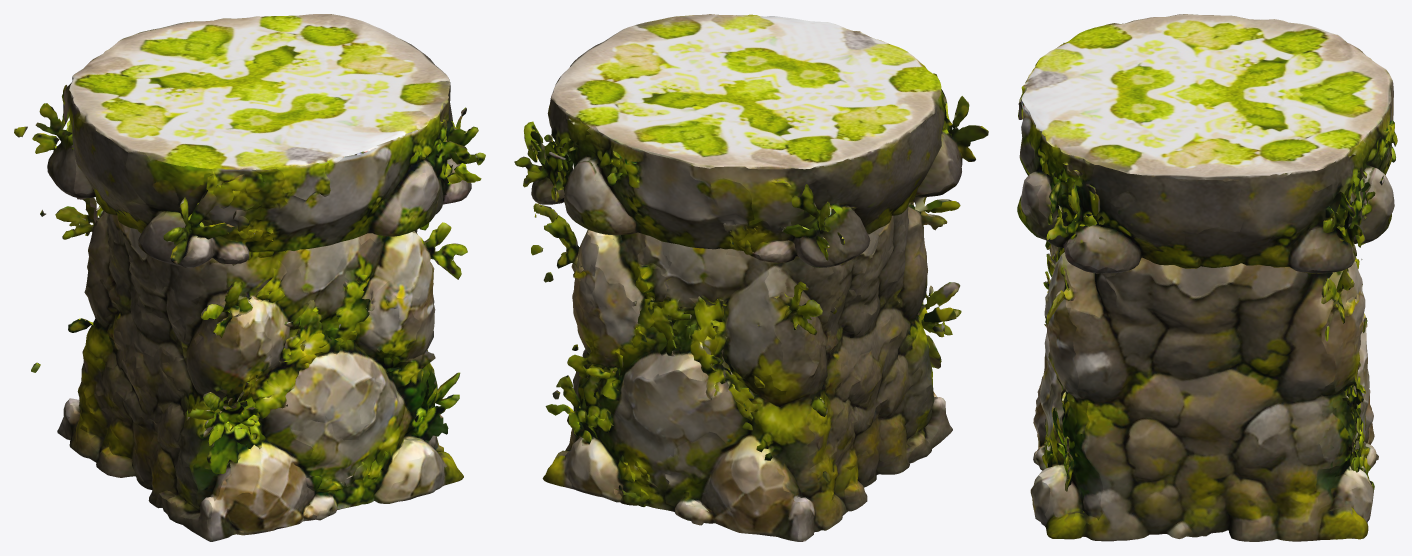
Rendered from river_stone.glb.
3 renders of one model, left to right at view 1: azimuth 30°, elevation 25°; view 2: azimuth 150°, elevation 25°; view 3: azimuth 270°, elevation 25°, orthographic. The views are drawn at different scales.
Parts seen in each view (by area): view 1: tmpthrbk9sj.ply; view 2: tmpthrbk9sj.ply; view 3: tmpthrbk9sj.ply.
Part boxes in pixels (left/top/right/bottom): tmpthrbk9sj.ply: left=14, top=14, right=485, bottom=541; tmpthrbk9sj.ply: left=514, top=14, right=988, bottom=541; tmpthrbk9sj.ply: left=1017, top=14, right=1397, bottom=541.
Bounding box in the file's own units: 1.91 × 1.98 × 1.81.
1 material, 1 textured.
